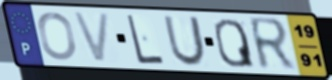L: (124, 13, 166, 66)
O: (36, 11, 79, 62)
Q: (212, 17, 257, 69)
R: (246, 15, 299, 73)
U: (162, 15, 208, 68)
V: (70, 10, 113, 65)
